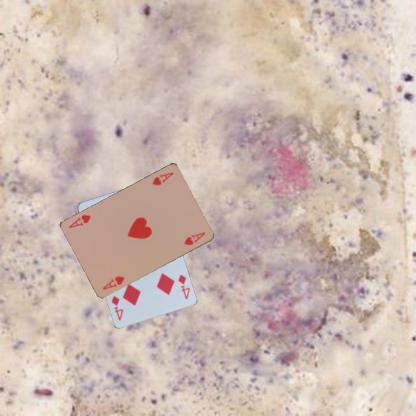4d: (175, 272, 191, 300)
Ah: (100, 273, 125, 291), (150, 169, 174, 187)
